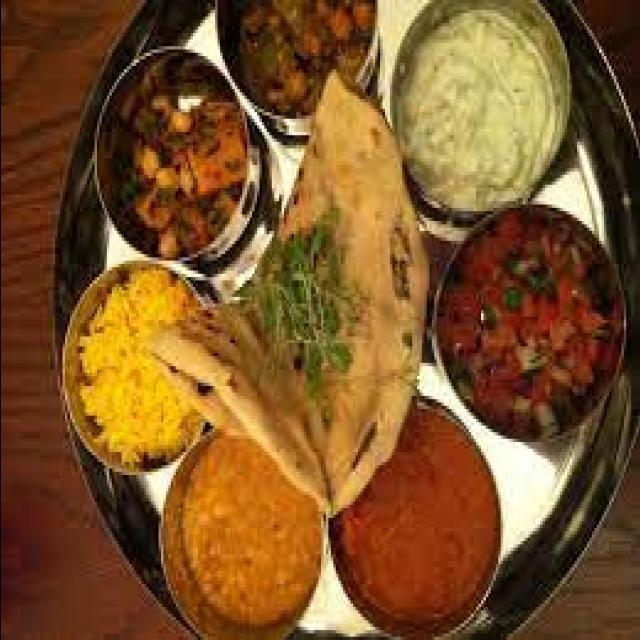veg-fry: (418, 190, 628, 456), (218, 1, 376, 121)
